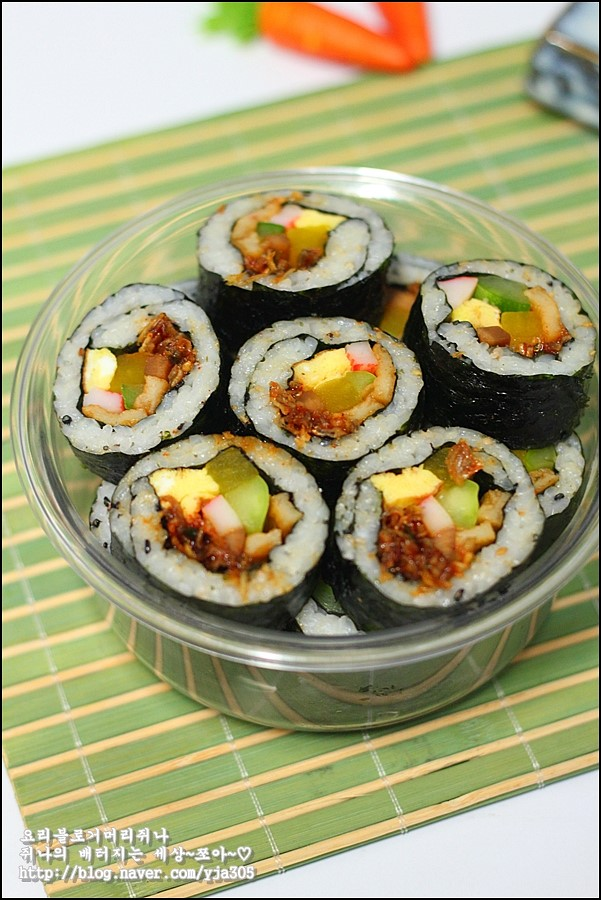gimbab: (46, 183, 601, 637)
